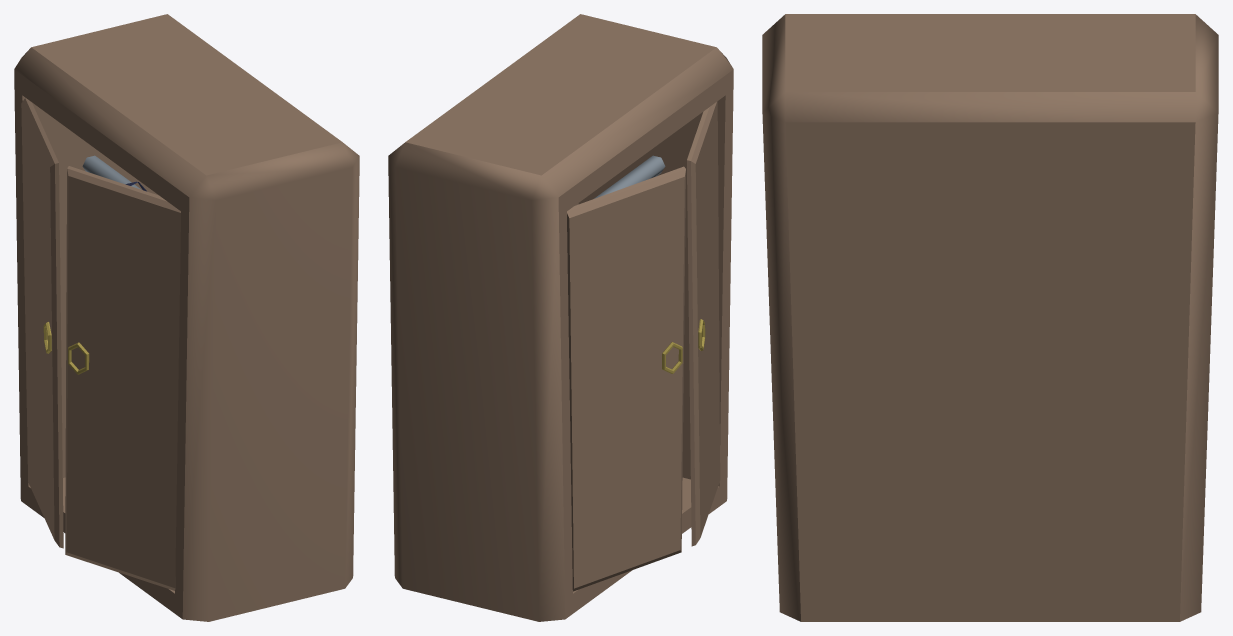
File: Closet.fbx
The picture shows the model from 3 angles, left to right: view 1: azimuth 30°, elevation 25°; view 2: azimuth 150°, elevation 25°; view 3: azimuth 270°, elevation 25°; orthographic projection. The views are drawn at different scales.
Visible parts, largest first — view 1: Closet, Puerta_Der, Puerta_Izq; view 2: Closet, Puerta_Izq, Puerta_Der; view 3: Closet.
Part boxes in pixels (x1,y1,x2,y2): Closet: (14,14,359,621); Puerta_Der: (65,166,180,590); Puerta_Izq: (21,98,63,548); Closet: (388,14,733,621); Puerta_Izq: (567,166,685,591); Puerta_Der: (687,101,720,546); Closet: (762,14,1218,621).
Bounding box in the file's own units: 0.6387 × 1.26 × 1.
